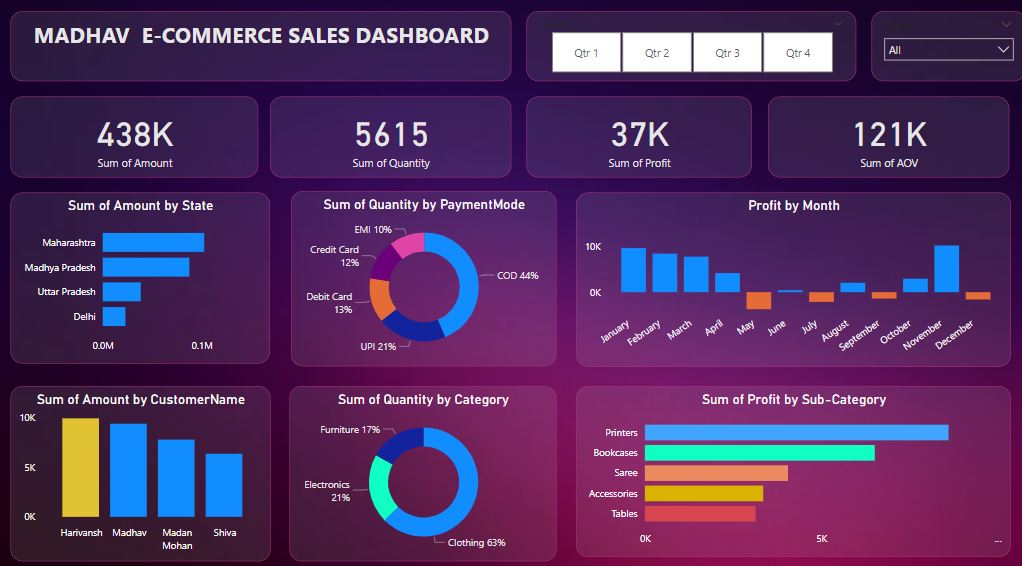

What the dashboard file says about the page in this screenshot:
{"tool":"powerbi","page":{"name":"Page 1","canvas":[1280,720],"ordinal":0},"visuals":[{"type":"textbox","box":[16.8,26.1,622.9,87.7],"z":0},{"type":"columnChart","title":"Profit by Month","fields":{"Y":["Details.Profit"],"Category":["Orders.Order Date.Variation.Date Hierarchy.Month"]},"box":[719.9,251.8,540.8,216.3],"z":1},{"type":"barChart","fields":{"Category":["Details.Sub-Category"],"Y":["Details.Profit"]},"box":[719.9,492.4,540.8,212.6],"z":2},{"type":"donutChart","fields":{"Category":["Details.Category"],"Y":["Details.Quantity"]},"box":[363.7,492.4,332,218.2],"z":3},{"type":"donutChart","fields":{"Y":["Details.Quantity"],"Category":["Details.PaymentMode"]},"box":[365.5,249.9,330.1,218.2],"z":4},{"type":"card","fields":{"Values":["Details.Amount"]},"box":[16.8,132.4,307.7,100.7],"z":5},{"type":"card","fields":{"Values":["Details.Quantity"]},"box":[339.4,132.4,300.3,100.7],"z":6},{"type":"card","fields":{"Values":["Details.Profit"]},"box":[658.3,132.4,279.7,100.7],"z":7},{"type":"card","fields":{"Values":["Details.AOV"]},"box":[958.6,132.4,300.3,100.7],"z":8},{"type":"barChart","fields":{"Category":["Orders.State"],"Y":["Details.Amount"]},"box":[16.8,251.8,322.6,212.6],"z":9},{"type":"columnChart","fields":{"Category":["Orders.CustomerName"],"Y":["Details.Amount"]},"box":[17,492,323,218],"z":10},{"type":"slicer","fields":{"Values":["Orders.Order Date.Variation.Date Hierarchy.Quarter"]},"box":[658.3,26.1,410.3,87.7],"z":11},{"type":"slicer","fields":{"Values":["Orders.State"]},"box":[1087.3,26.1,192.1,87.7],"z":12}]}

Visuals, with their boxes in screenshot pixels (x1, y1, x2, y2), scaled from the page's 1280x720 canvas onto the 1022x566 screenshot:
textbox: <bbox>13, 21, 511, 89</bbox>
"Profit by Month" columnChart: <bbox>575, 198, 1007, 368</bbox>
barChart - Details.Sub-Category x Details.Profit: <bbox>575, 387, 1007, 554</bbox>
donutChart - Details.Category x Details.Quantity: <bbox>290, 387, 555, 559</bbox>
donutChart - Details.Quantity x Details.PaymentMode: <bbox>292, 196, 555, 368</bbox>
card - Details.Amount: <bbox>13, 104, 259, 183</bbox>
card - Details.Quantity: <bbox>271, 104, 511, 183</bbox>
card - Details.Profit: <bbox>526, 104, 749, 183</bbox>
card - Details.AOV: <bbox>765, 104, 1005, 183</bbox>
barChart - Orders.State x Details.Amount: <bbox>13, 198, 271, 365</bbox>
columnChart - Orders.CustomerName x Details.Amount: <bbox>14, 387, 271, 558</bbox>
slicer - Orders.Order Date.Variation.Date Hierarchy.Quarter: <bbox>526, 21, 853, 89</bbox>
slicer - Orders.State: <bbox>868, 21, 1021, 89</bbox>
